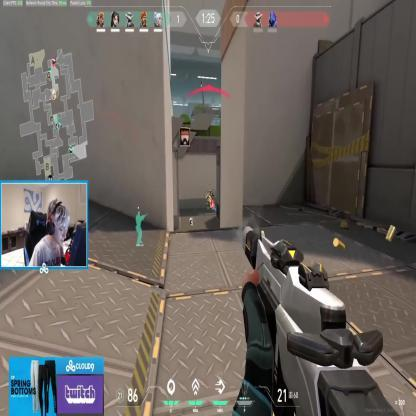enemy: (206, 193, 210, 210), (209, 189, 212, 209)
enemy_head: (206, 194, 209, 198), (210, 190, 211, 193)
